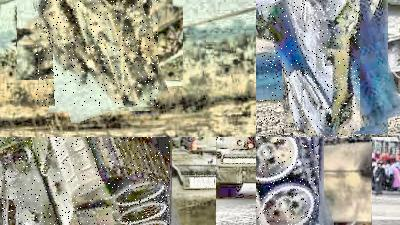tanks: (1, 138, 171, 225), (261, 1, 360, 138), (36, 1, 159, 107), (257, 138, 320, 225), (212, 138, 257, 198)
